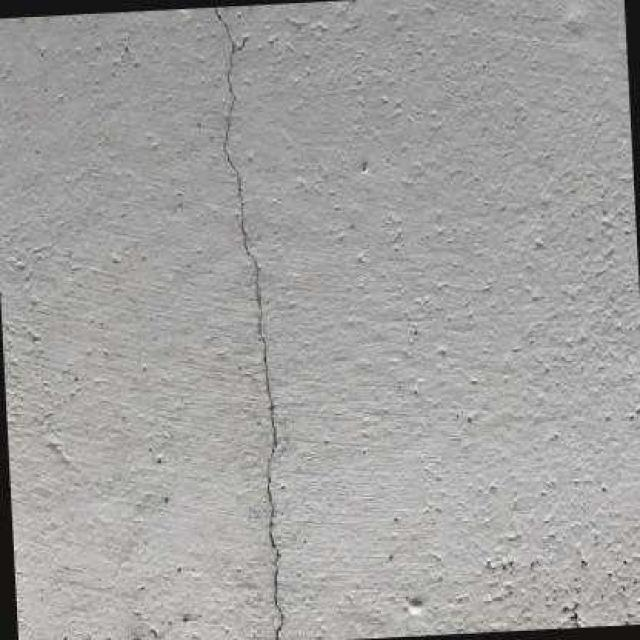D00: (205, 5, 281, 640)
